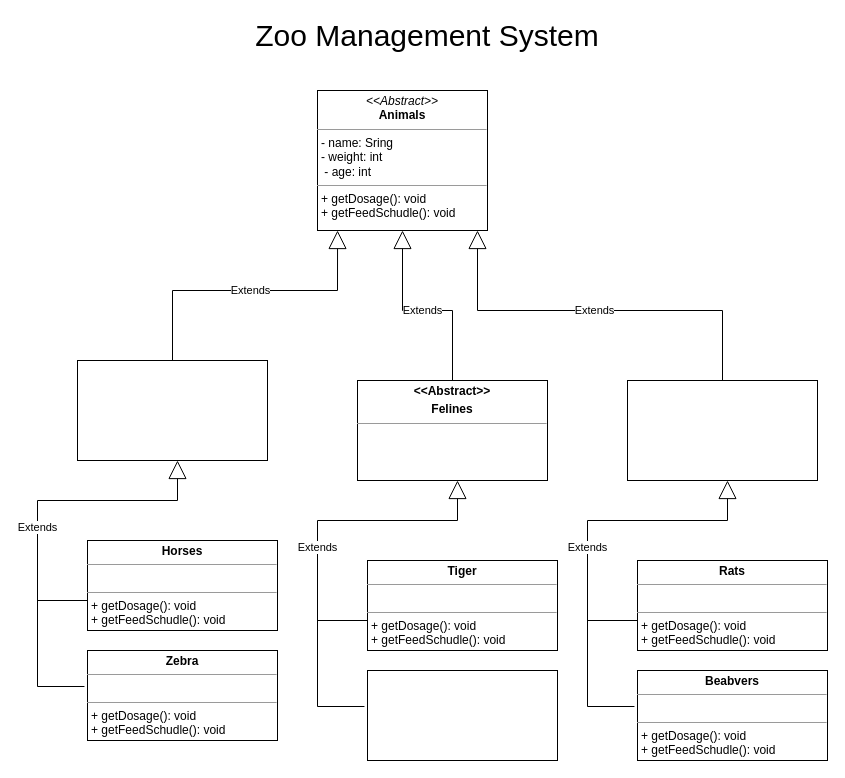
This 845x778 diagram has some shape labels left out. Here are the shapes that lost their labels. From the top down, the centre of each, then its label:
(172,410): <<Abstract>> Horses
(722,430): <<Abstract>> Rodents
(462,715): Lion + getDosage(): void + getFeedSchudle(): void
